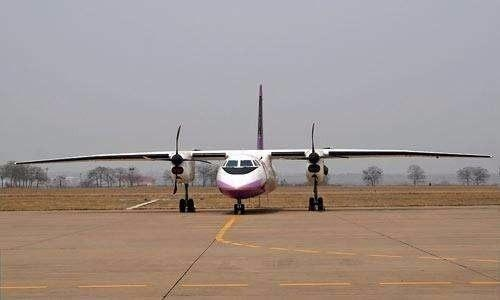airplane: (12, 82, 499, 212)
